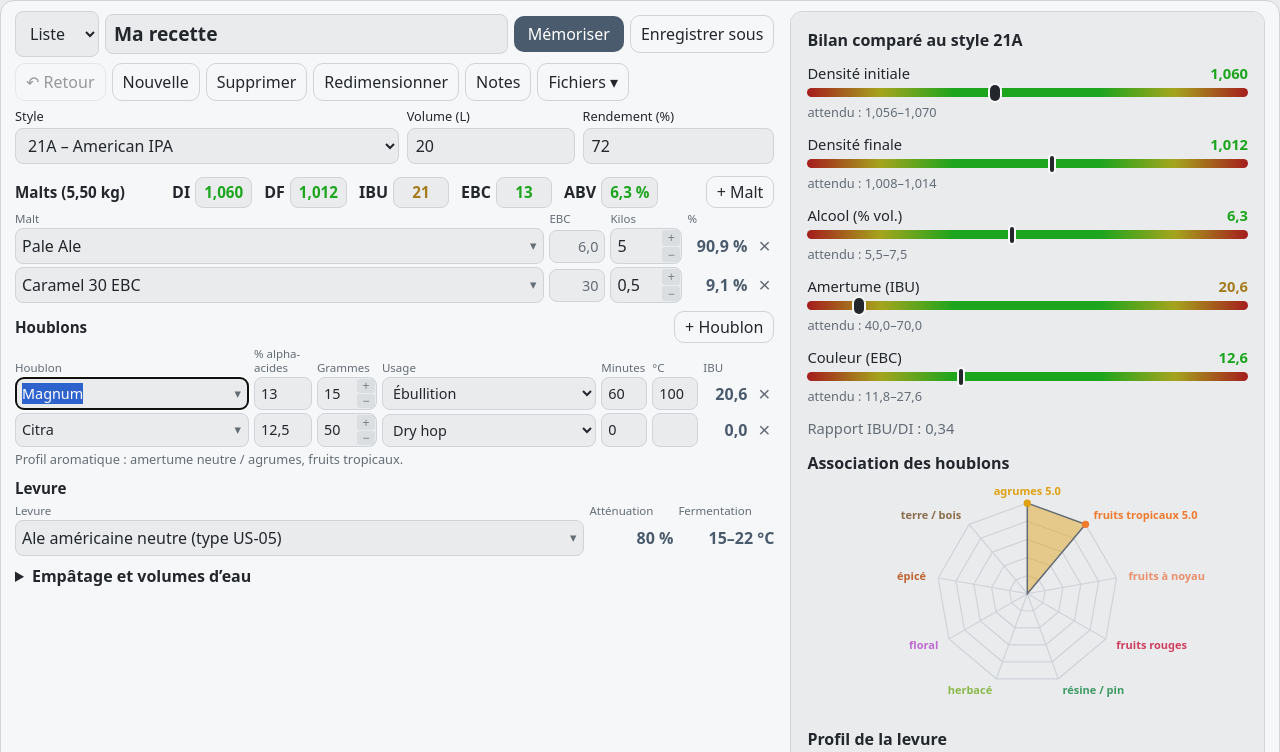
Scenario: appel rapide dans la recette › remplace le houblon choisi et reprend son pourcentage d’alpha-acides
The width and height of the screenshot is (1280, 752).
Replace the text in the 1st dropdown named "Houblon" with "galaxy" at (132, 394), box [15,377,249,410]
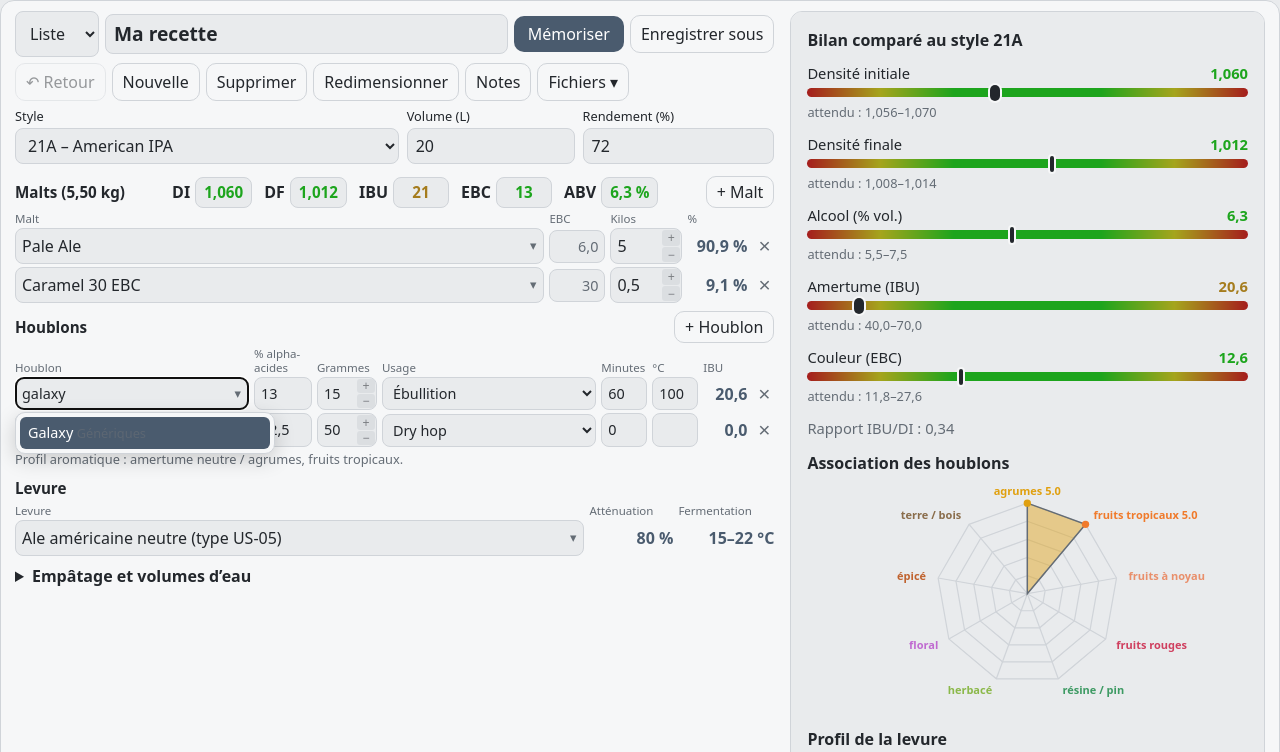
Press the mouse on the option "Galaxy Génériques" at (145, 433), box [20,418,270,449]
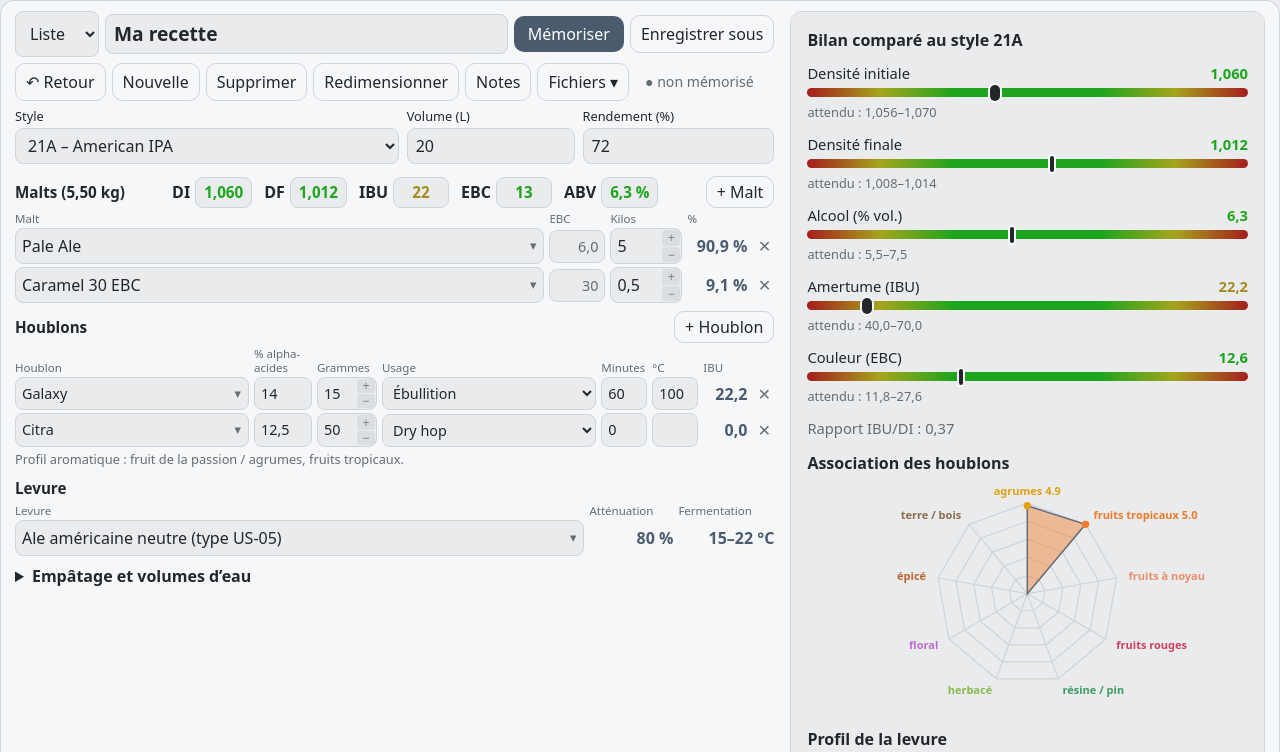
Expected: the 1st field named "Alpha-acides en %" holds "14", [254,377,312,410]
